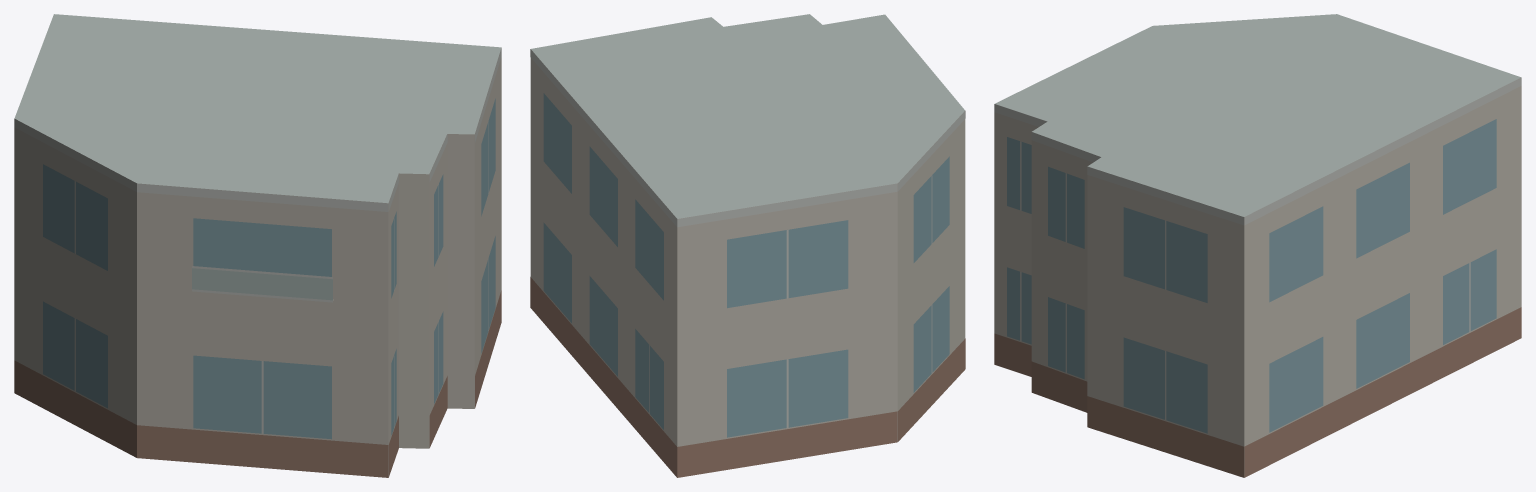
Rendered from survey-upis-32615193.glb.
3 views of the same model, side by side, from view 1: azimuth 30°, elevation 25°; view 2: azimuth 150°, elevation 25°; view 3: azimuth 270°, elevation 25° (orthographic). The views are drawn at different scales.
Visible parts, largest first — view 1: survey-upis-32615193.tmp; view 2: survey-upis-32615193.tmp; view 3: survey-upis-32615193.tmp.
Boxes of the visible parts, x1,y1,x2,y2 form: survey-upis-32615193.tmp: [14, 14, 501, 477]; survey-upis-32615193.tmp: [530, 14, 965, 477]; survey-upis-32615193.tmp: [994, 14, 1521, 477].
Bounding box in the file's own units: 12.7 × 7.6 × 13.93.
